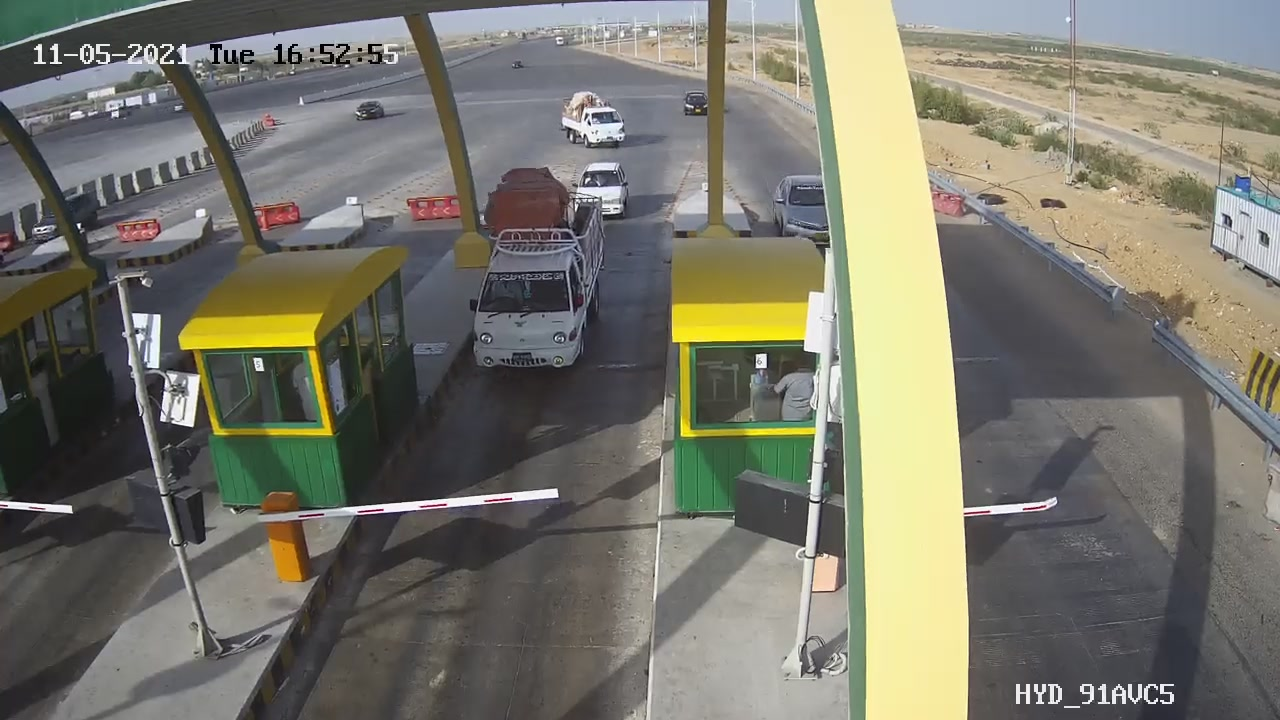F2: (453, 159, 616, 392)
